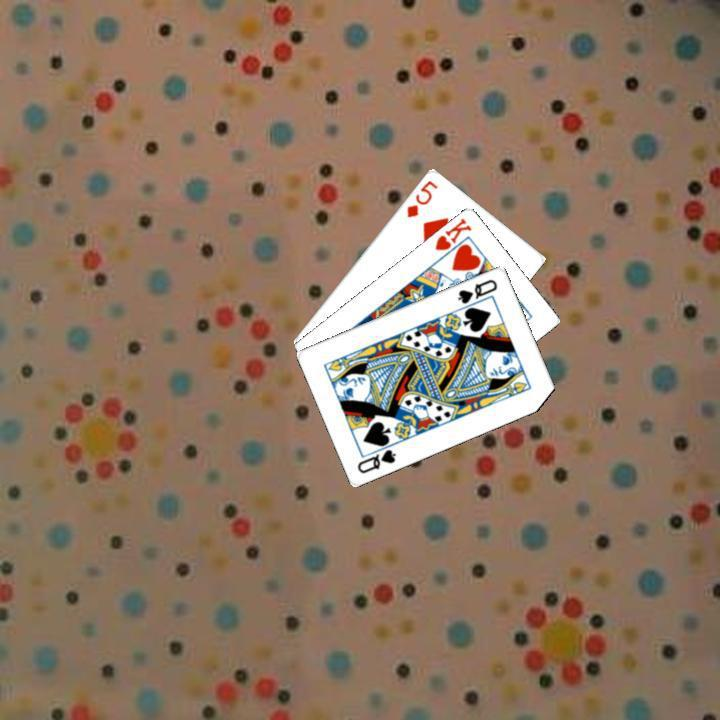5: (402, 175, 440, 219)
K: (430, 213, 474, 252)
Q: (453, 274, 499, 306), (353, 444, 398, 475)
